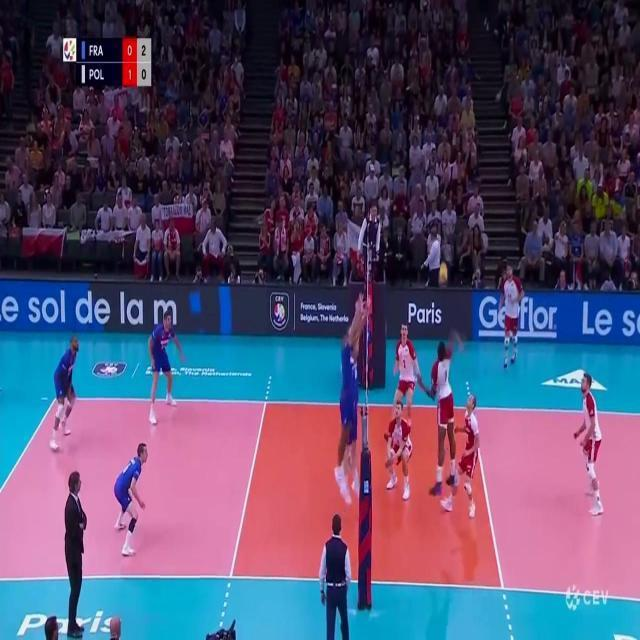volleyball: (438, 262, 448, 289)
